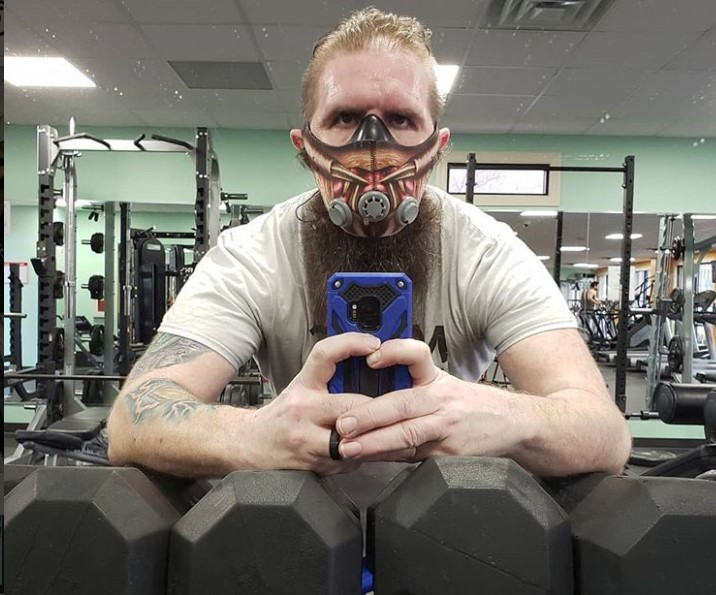face_with_mask: (297, 6, 452, 240)
